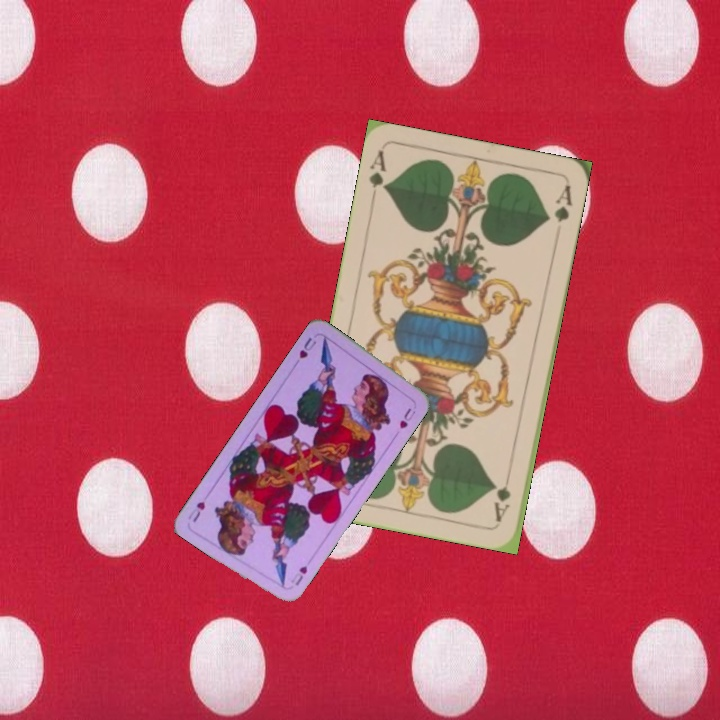GA: (365, 146, 390, 205), (490, 466, 514, 525)
HU: (295, 333, 319, 361), (291, 561, 310, 589)
